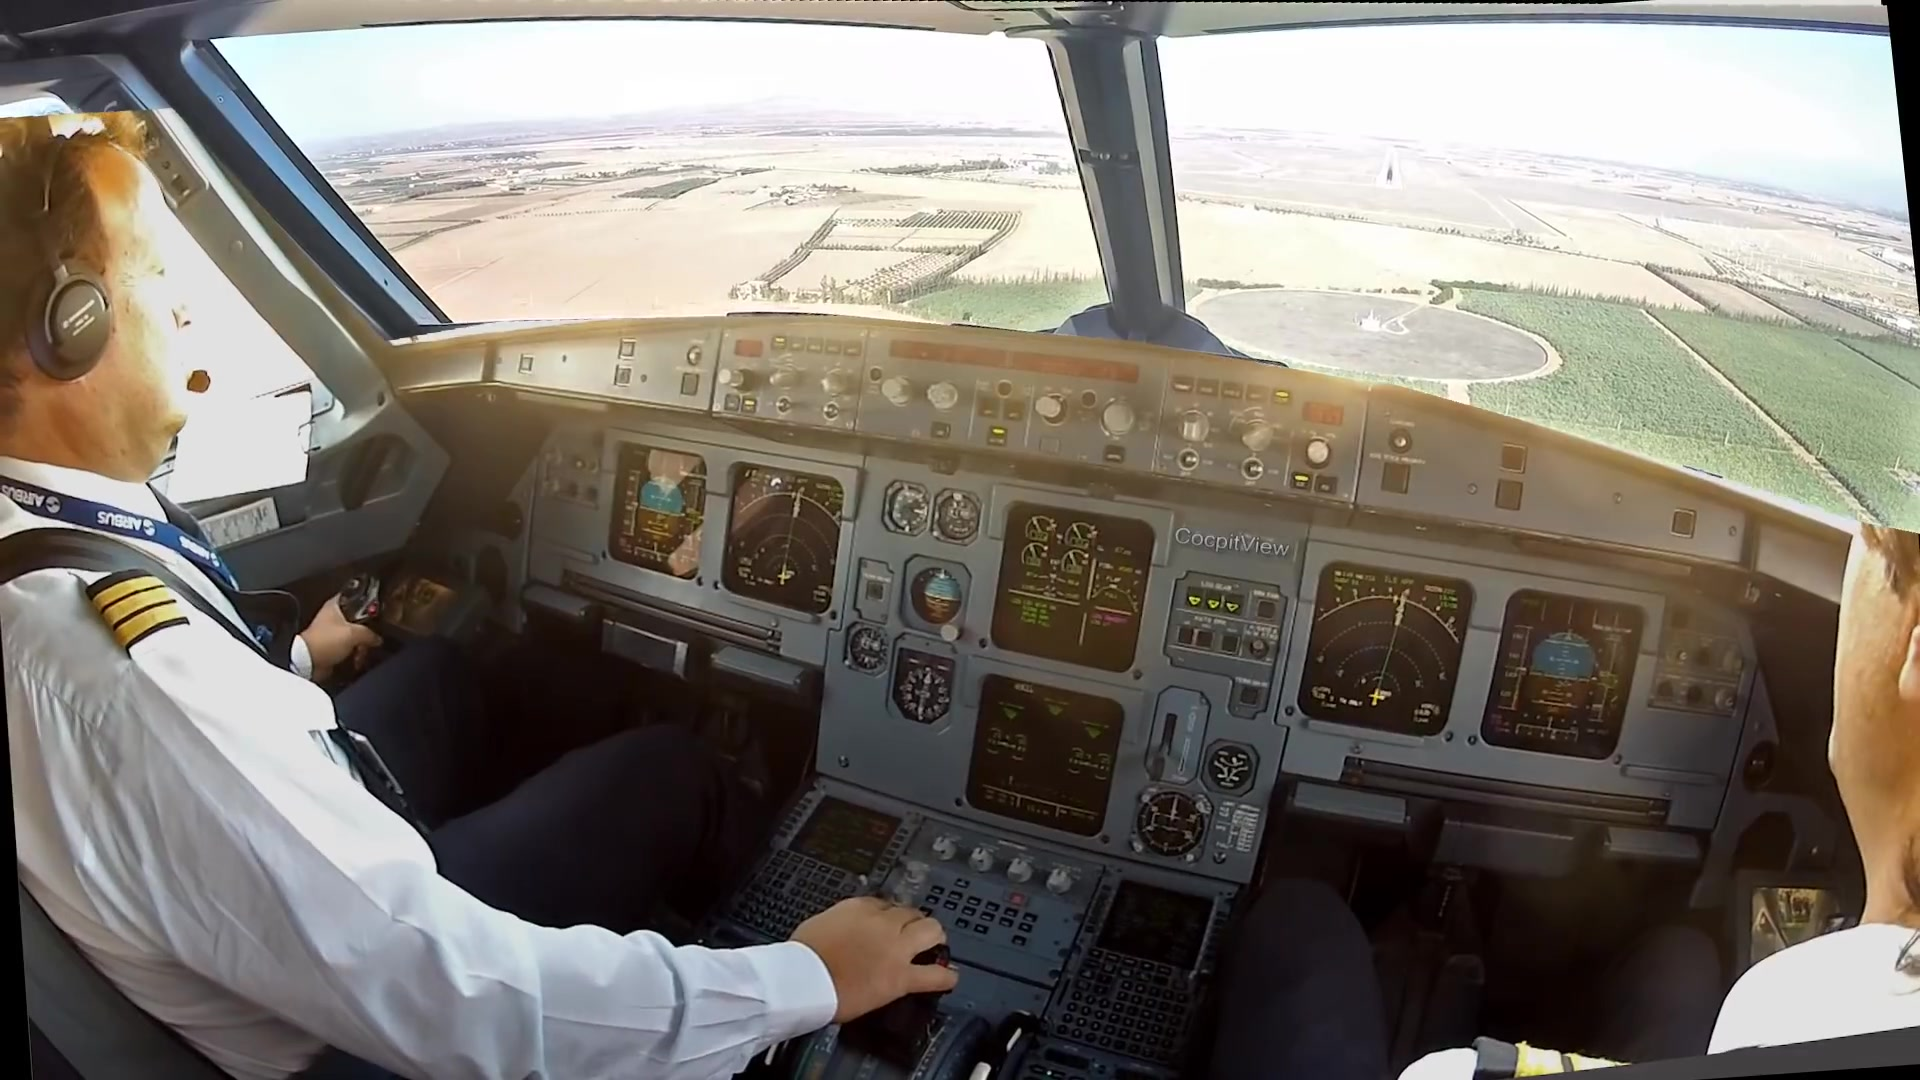runway: (1371, 149, 1404, 190)
